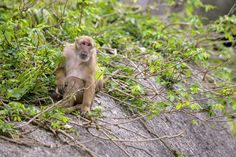monkey: (43, 35, 102, 125)
